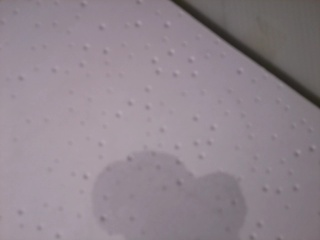Water_detected: (105, 156, 204, 240)
